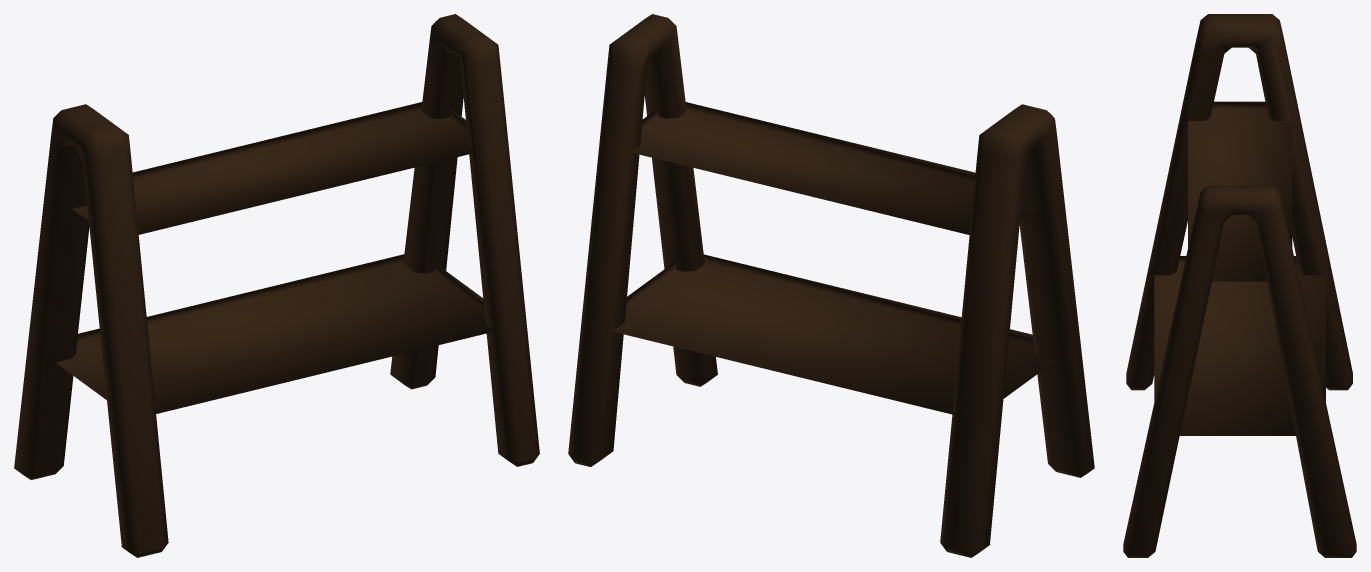
File: Shelf2.glb
3 renders of one model, left to right at view 1: azimuth 30°, elevation 25°; view 2: azimuth 150°, elevation 25°; view 3: azimuth 270°, elevation 25°, orthographic. The views are drawn at different scales.
Parts seen in each view (by area): view 1: Shelf2; view 2: Shelf2; view 3: Shelf2.
Part boxes in pixels (<box>): Shelf2: <box>14,14,539,557</box>; Shelf2: <box>568,14,1094,557</box>; Shelf2: <box>1123,14,1356,557</box>.
Size of the model in its own units: 0.5805 by 0.5319 by 0.3082.
